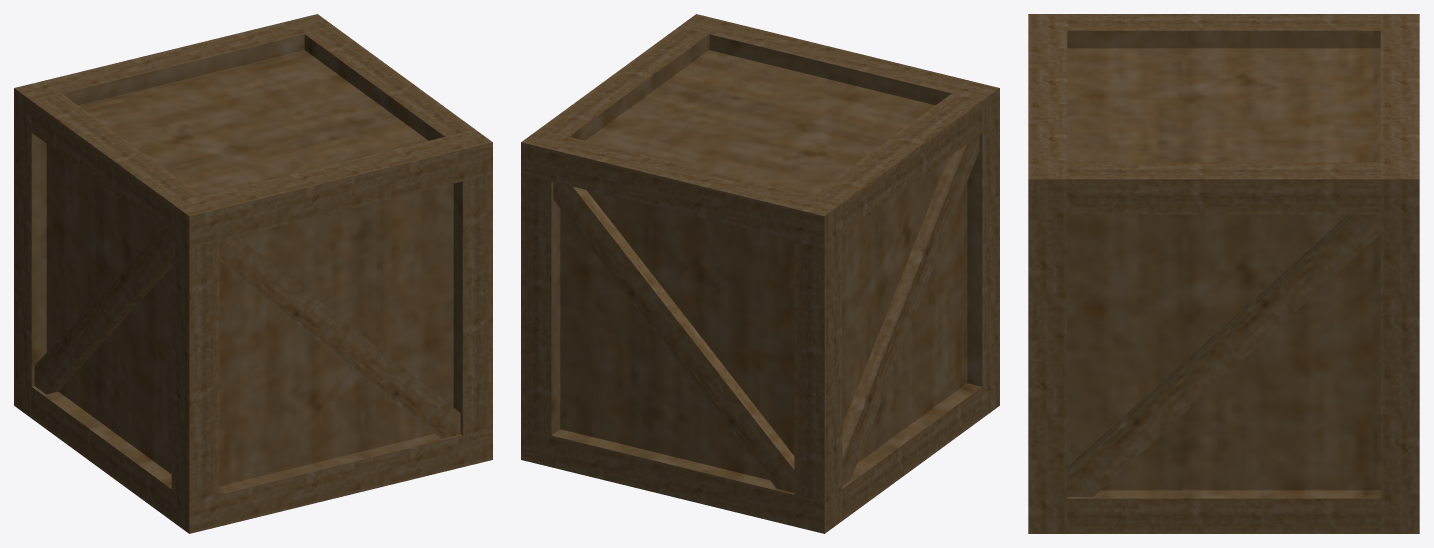
Rendered from MediumCrate.fbx.
The picture shows the model from 3 angles, left to right: view 1: azimuth 30°, elevation 25°; view 2: azimuth 150°, elevation 25°; view 3: azimuth 270°, elevation 25°; orthographic projection. The views are drawn at different scales.
Visible parts, largest first — view 1: MediumCrate; view 2: MediumCrate; view 3: MediumCrate.
Part boxes in pixels (left/top/right/bottom): MediumCrate: left=14, top=14, right=492, bottom=533; MediumCrate: left=521, top=14, right=999, bottom=533; MediumCrate: left=1028, top=14, right=1419, bottom=533.
Bounding box in the file's own units: 1 × 1 × 1.
